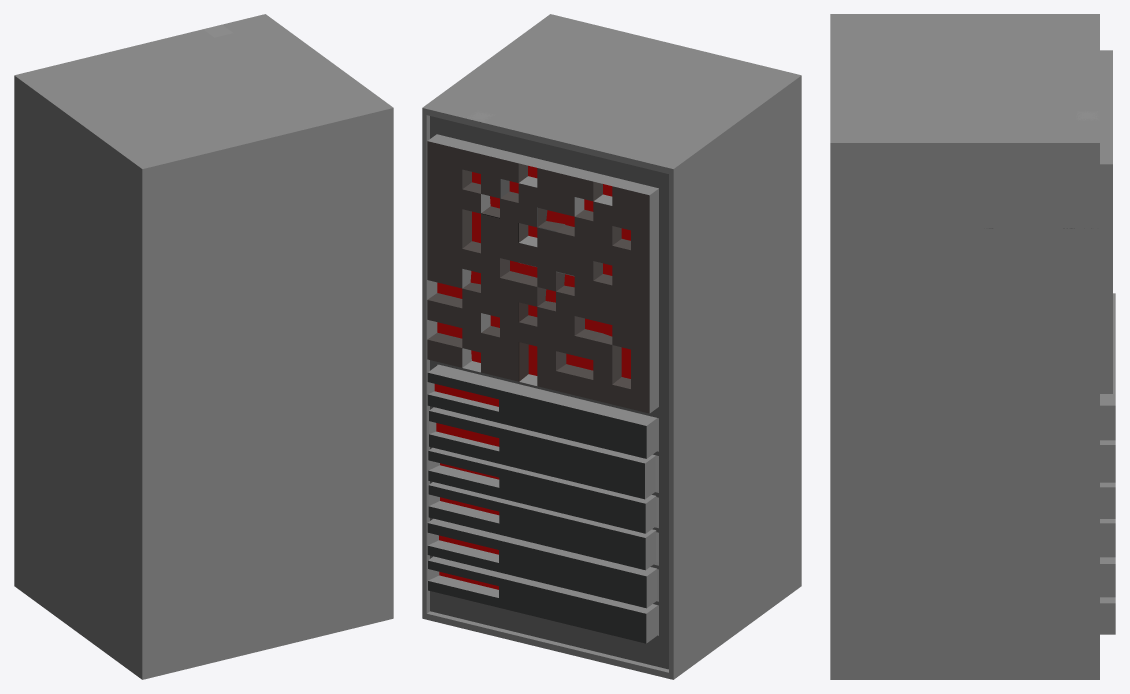
File: serwer_destroy.fbx
3 views of the same model, side by side, from view 1: azimuth 30°, elevation 25°; view 2: azimuth 150°, elevation 25°; view 3: azimuth 270°, elevation 25° (orthographic). The views are drawn at different scales.
Parts seen in each view (by area): view 1: Cube.005, Cube.015, Cube.007, Cube.016, Cube.008, Cube.006, Cube.001, Cube.019, Cube.021, Cube.018, Cube.020, Cube.003; view 2: Cube.005, Cube.015, Cube.007, Cube.008, Cube.016, Cube.006, Cube.009, Cube.003, Cube.010, Cube.013, Cube.012, Cube.014 (+4 smaller); view 3: Cube.007, Cube.015, Cube.005, Cube.003, Cube.018, Cube.017, Cube.006, Cube.021, Cube.020, Cube.019, Cube.022, Cube.009 (+5 smaller).
Boxes of the visible parts, x1,y1,x2,y2 form: Cube.005: (14, 43, 272, 372); Cube.015: (14, 483, 393, 679); Cube.007: (226, 41, 393, 376); Cube.016: (14, 320, 272, 516); Cube.008: (14, 255, 292, 412); Cube.006: (145, 25, 330, 268); Cube.001: (72, 465, 253, 575); Cube.019: (195, 377, 393, 488); Cube.021: (253, 451, 393, 548); Cube.018: (292, 352, 393, 433); Cube.020: (14, 423, 72, 524); Cube.003: (203, 14, 334, 66); Cube.005: (537, 43, 801, 373); Cube.015: (422, 483, 801, 679); Cube.007: (422, 14, 612, 381); Cube.008: (518, 262, 801, 413); Cube.016: (546, 320, 801, 516); Cube.006: (466, 29, 670, 275); Cube.009: (427, 364, 658, 458); Cube.003: (422, 56, 509, 218); Cube.010: (429, 407, 658, 499); Cube.013: (427, 518, 658, 608); Cube.012: (428, 482, 658, 570); Cube.014: (428, 556, 658, 643); Cube.007: (830, 110, 1112, 399); Cube.015: (830, 571, 1099, 679); Cube.005: (830, 14, 1112, 107); Cube.003: (953, 110, 1112, 228); Cube.018: (830, 399, 977, 478); Cube.017: (977, 399, 1099, 478); Cube.006: (830, 81, 1112, 127); Cube.021: (830, 519, 977, 570); Cube.020: (977, 519, 1099, 570); Cube.019: (830, 478, 977, 519); Cube.022: (977, 478, 1099, 519); Cube.009: (1100, 293, 1115, 440).
Size of the model in its own units: 96.27 by 200 by 103.
